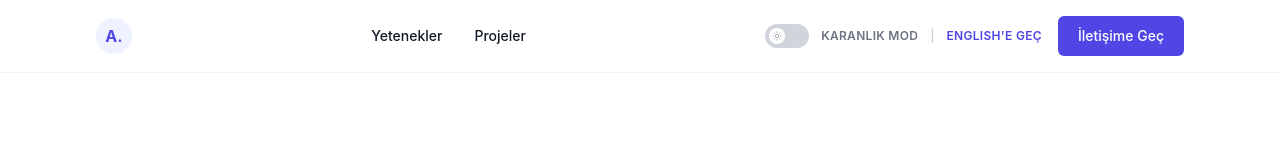
Navbar › dil değiştirme butonuna tıklanınca metinler İngilizceye döner
This screenshot has width=1280, height=160.
Click the button "ENGLISH'E GEÇ".
click(994, 36)  # box x1=946 y1=28 x2=1042 y2=44
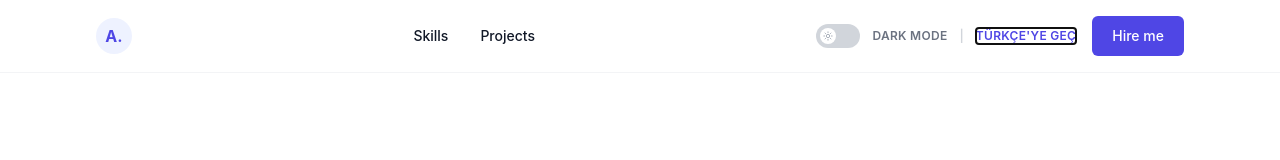
Expected: the button "Hire me" is shown, x1=1092 y1=16 x2=1184 y2=56
